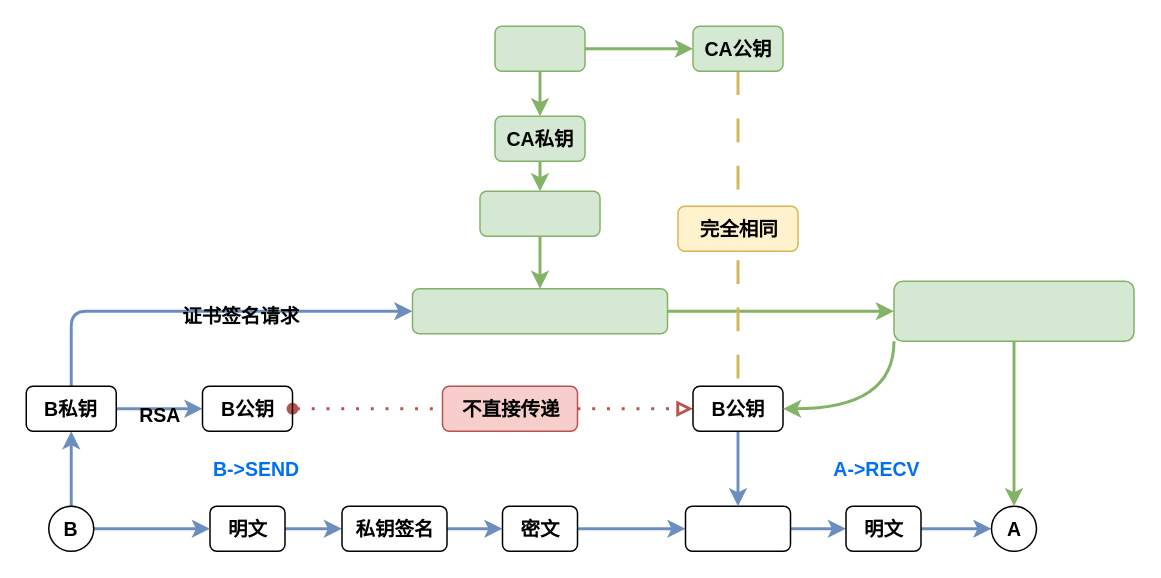
The diagram is 1161 pixels wide and 578 high, and some of its shapes have lost their labels. The shapes that lost their labels are listed below. From the top down, each one's centre as x and y in pixels, then its label:
the point at 539,48: CA
the point at 539,213: 自签名证书
the point at 539,310: 使用B的私钥为B签发证书
the point at 1013,310: 从签发证书中获取B公钥 与CA公钥进行比对
the point at 737,528: 公钥验签
